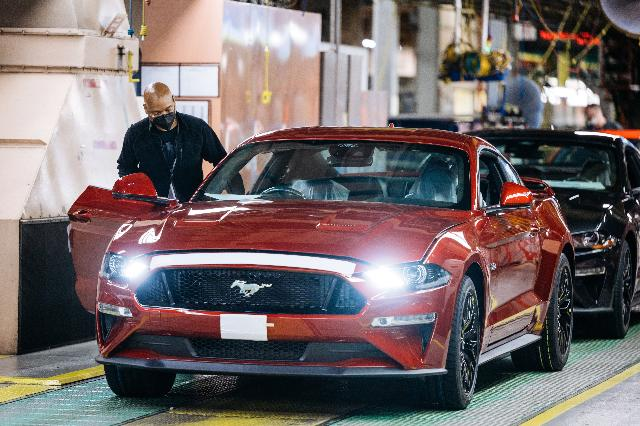ford-mustang: (94, 126, 576, 410)
